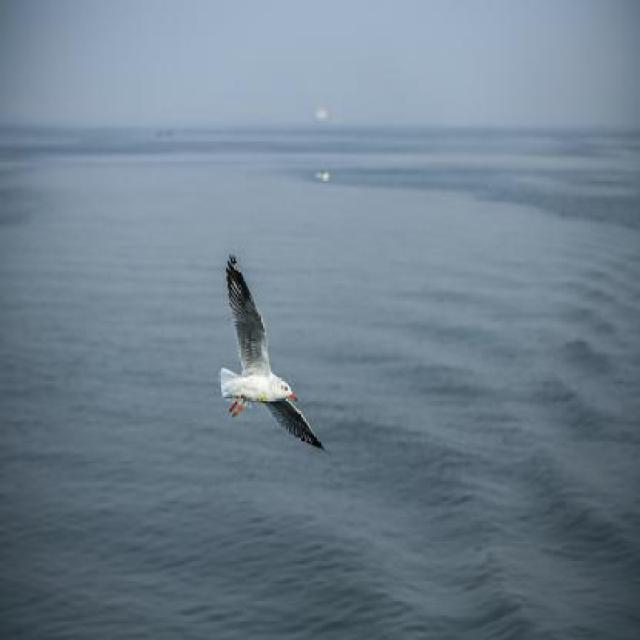bird: (218, 254, 328, 454)
